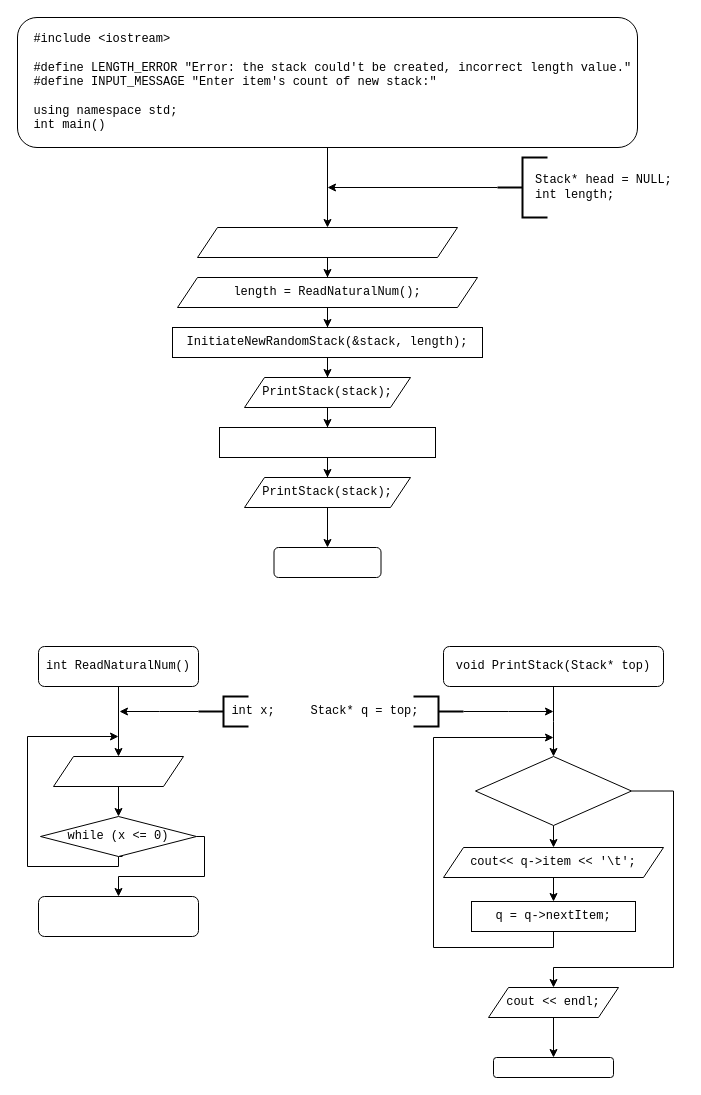
Image size: 701x1095. Some labels were removed from this diagram. Each missing label, with the centre of its shape:
cin >> x;: the point at 118,771
cout << INPUT_MESSAGE << endl;: the point at 327,242
DeleteFirstOdd(&stack);: the point at 327,442
return 0;: the point at 327,562
return x;: the point at 118,916
while (printList != head): the point at 553,791
